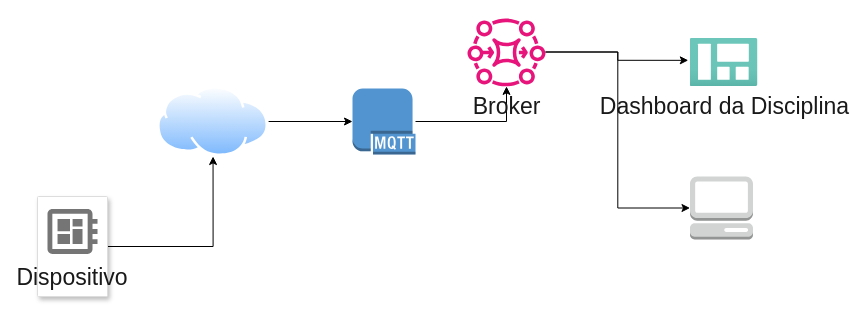
Image size: 866x321. Some labels were removed from this diagram. Here are the shapes that lost their labels. From the top down, the centre of each, then its label:
At [212,121]: "Internet".
At [721,208]: "Cliente Web".
